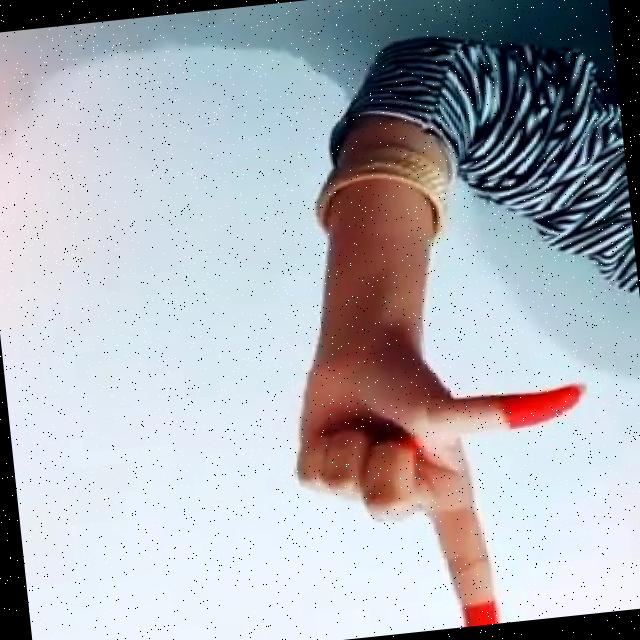Chandrakala: (265, 314, 640, 640)
bangle: (269, 136, 494, 260)
